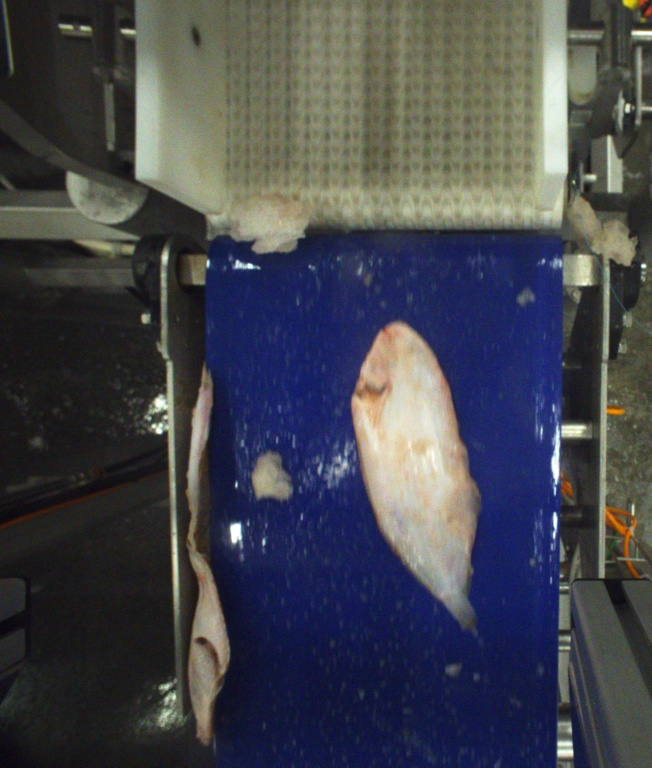SOL: (354, 318, 482, 637)
